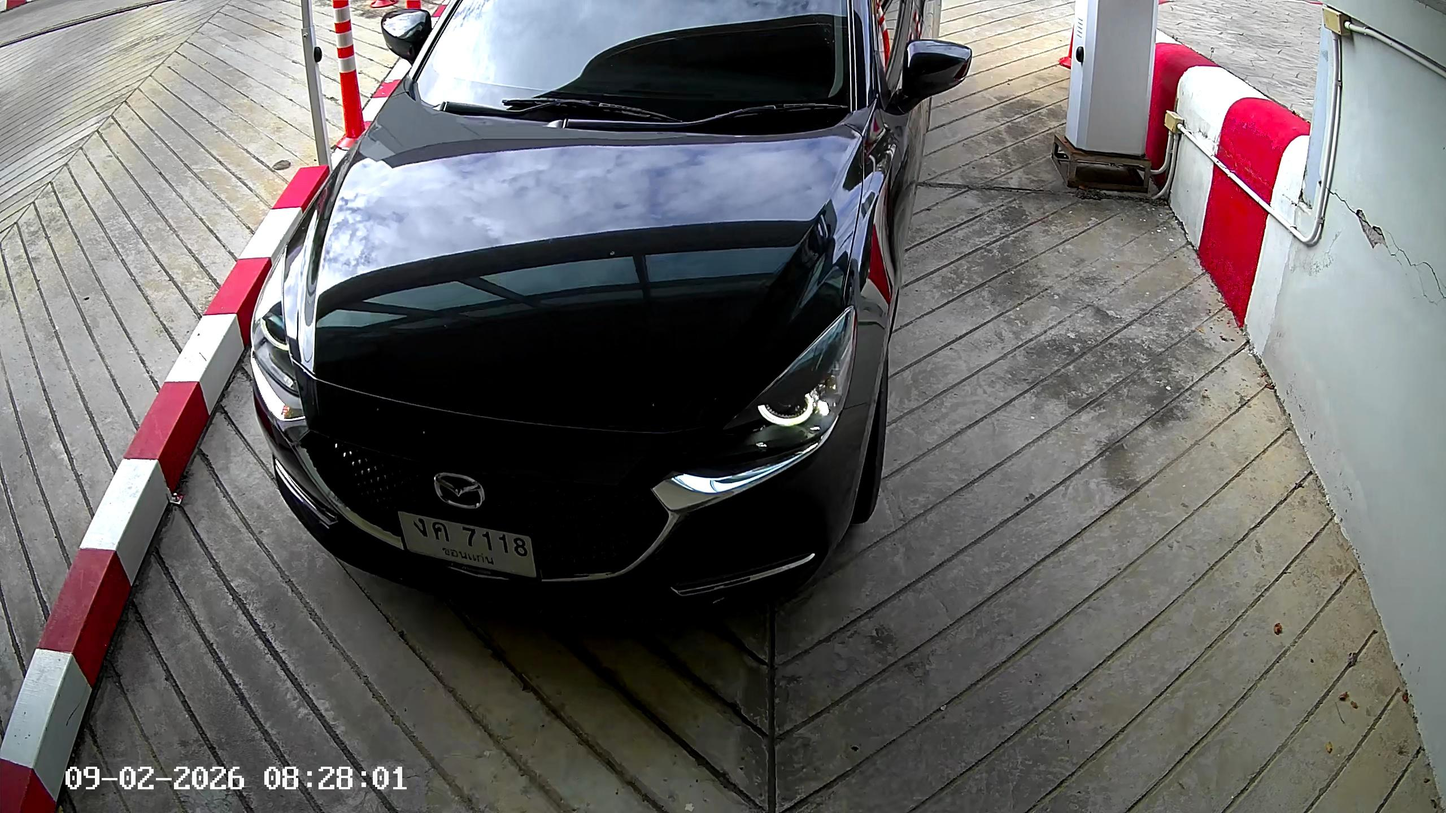car: (245, 0, 977, 613)
license-plate: (390, 506, 543, 585)
